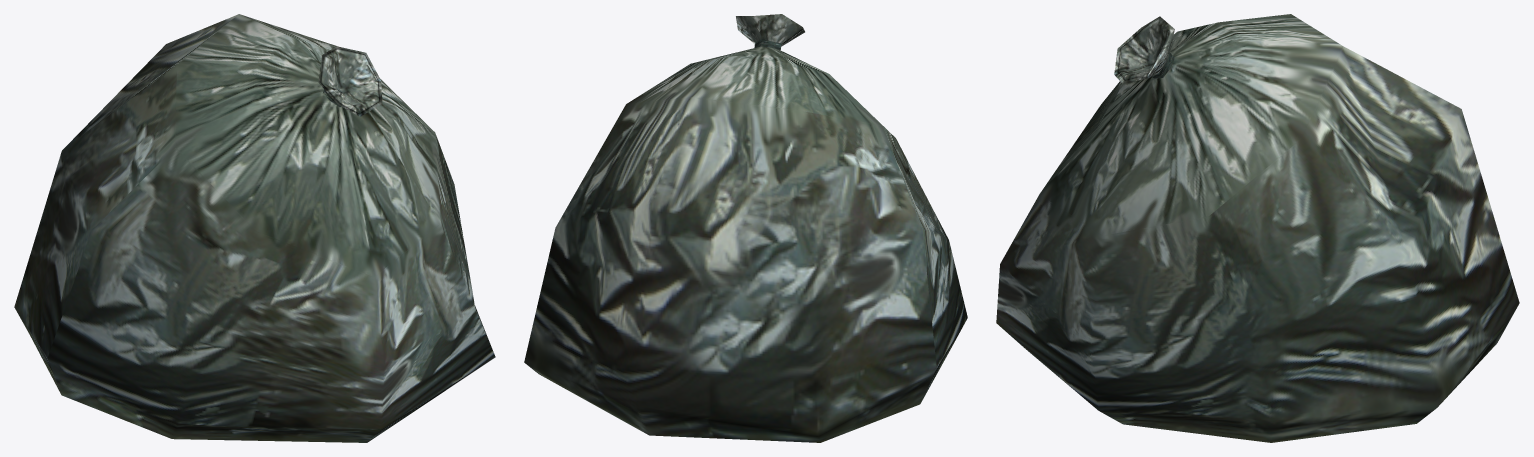
The model's file is TrashBag4.fbx.
3 views of the same model, side by side, from view 1: azimuth 30°, elevation 25°; view 2: azimuth 150°, elevation 25°; view 3: azimuth 270°, elevation 25° (orthographic). The views are drawn at different scales.
Parts seen in each view (by area): view 1: TrashBag4 (2); view 2: TrashBag4 (2); view 3: TrashBag4 (2).
Boxes of the visible parts, left/top/right/bottom form: TrashBag4 (2): left=14, top=14, right=495, bottom=442; TrashBag4 (2): left=524, top=14, right=967, bottom=442; TrashBag4 (2): left=996, top=14, right=1519, bottom=442.
Size of the model in its own units: 93.73 by 72.47 by 100.
